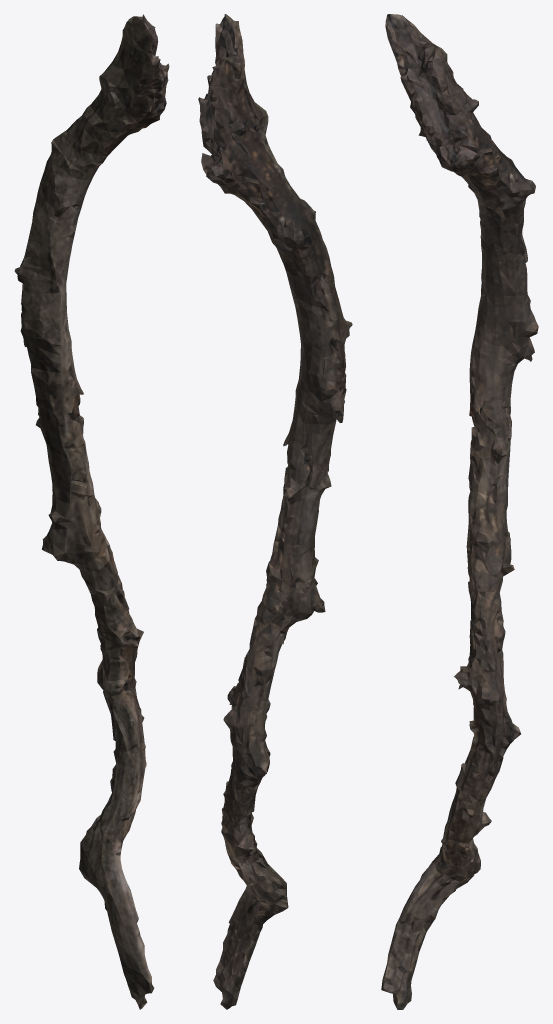
The model's file is branch-dry-a.glb.
The picture shows the model from 3 angles, left to right: view 1: azimuth 30°, elevation 25°; view 2: azimuth 210°, elevation 25°; view 3: azimuth 270°, elevation 25°; orthographic projection.
Size of the model in its own units: 0.1304 by 1.04 by 0.1493.
1 material, 1 textured.
